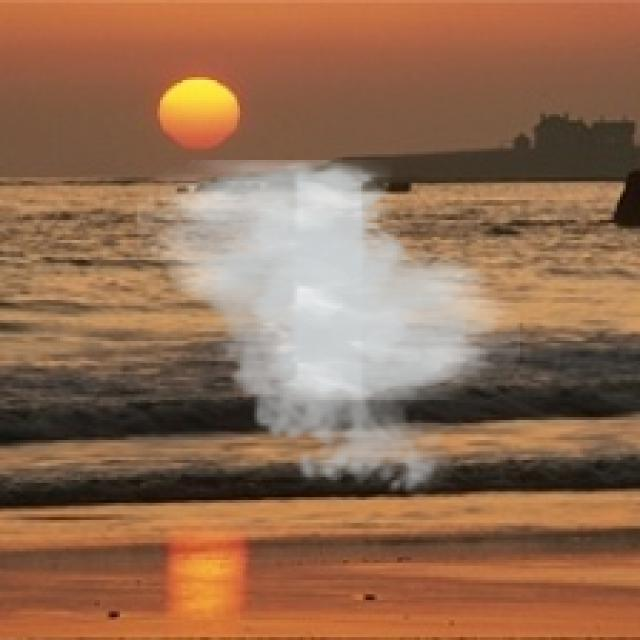Smoke: (137, 160, 520, 503)
